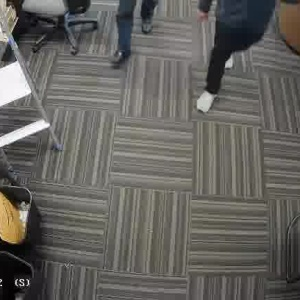person: (196, 0, 277, 115), (109, 0, 157, 69)
